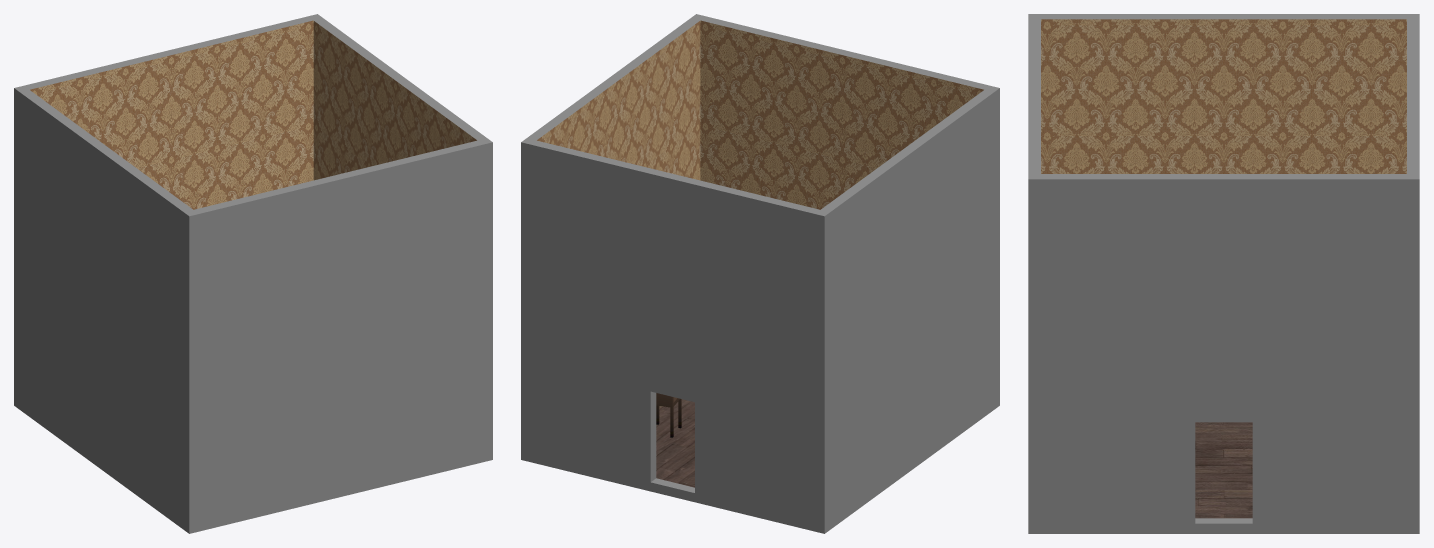
The model's file is Library.FBX.
3 views of the same model, side by side, from view 1: azimuth 30°, elevation 25°; view 2: azimuth 150°, elevation 25°; view 3: azimuth 270°, elevation 25° (orthographic). The views are drawn at different scales.
Visible parts, largest first — view 1: Library; view 2: Library; view 3: Library.
Boxes of the visible parts, x1,y1,x2,y2 form: Library: (14, 14, 492, 533); Library: (521, 14, 999, 533); Library: (1028, 14, 1419, 533).
Bounding box in the file's own units: 500 × 500 × 500.
